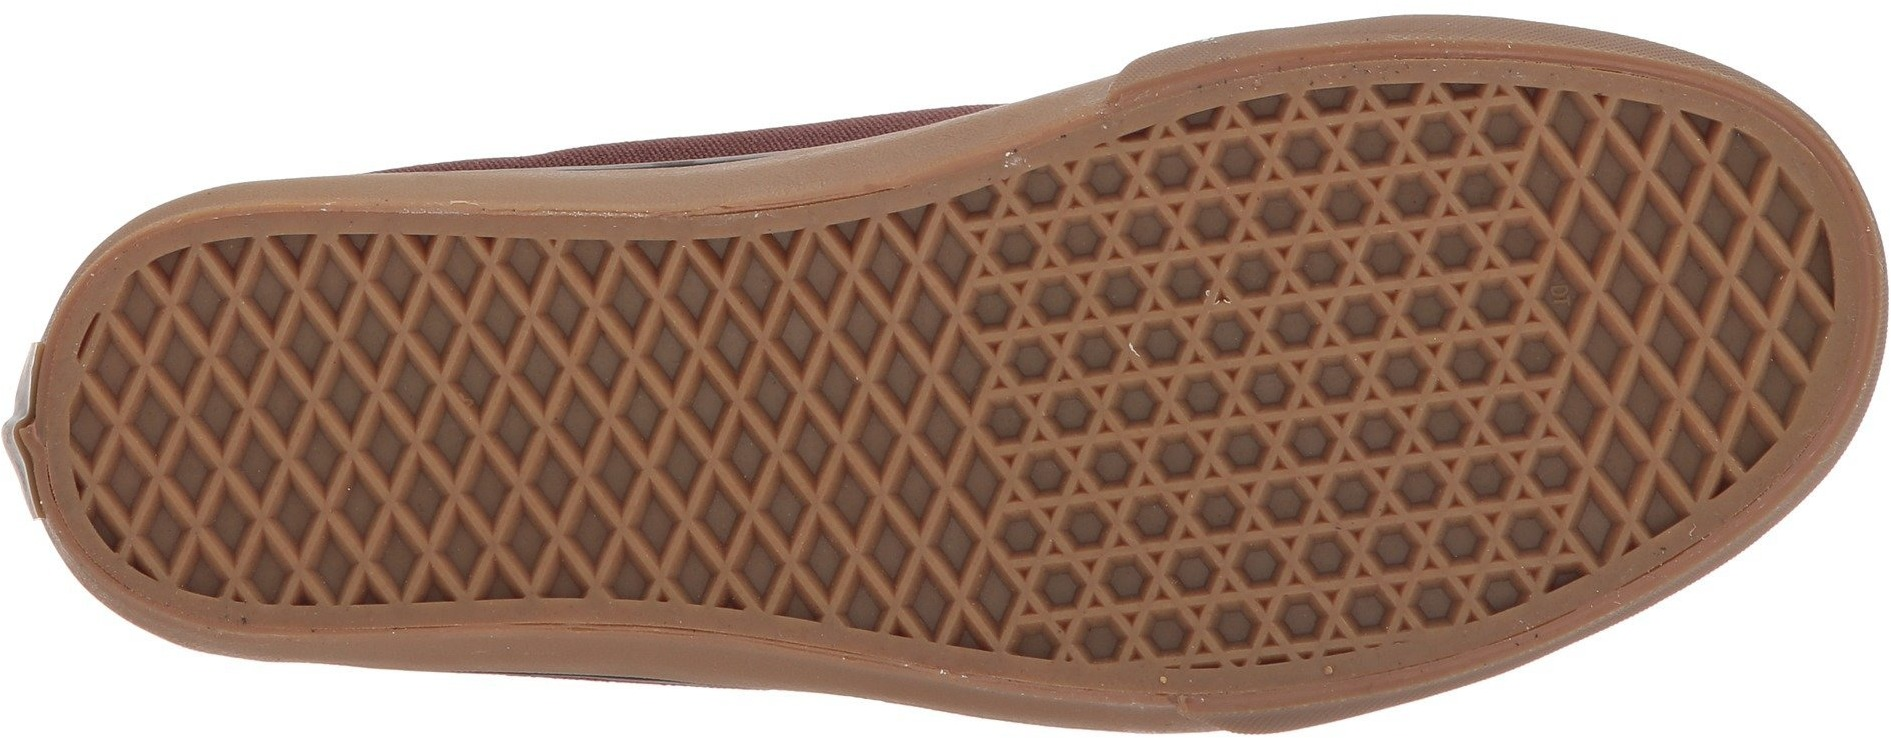polygon: (1247, 106, 1540, 416), (993, 174, 1241, 424), (1235, 430, 1473, 648), (1003, 435, 1217, 657)
quad: (382, 254, 707, 585), (1552, 140, 1823, 421), (106, 295, 377, 557), (721, 238, 980, 482), (836, 490, 982, 639)
triangle: (1247, 106, 1540, 416), (993, 174, 1241, 424), (1235, 430, 1473, 648), (1003, 435, 1217, 657)
